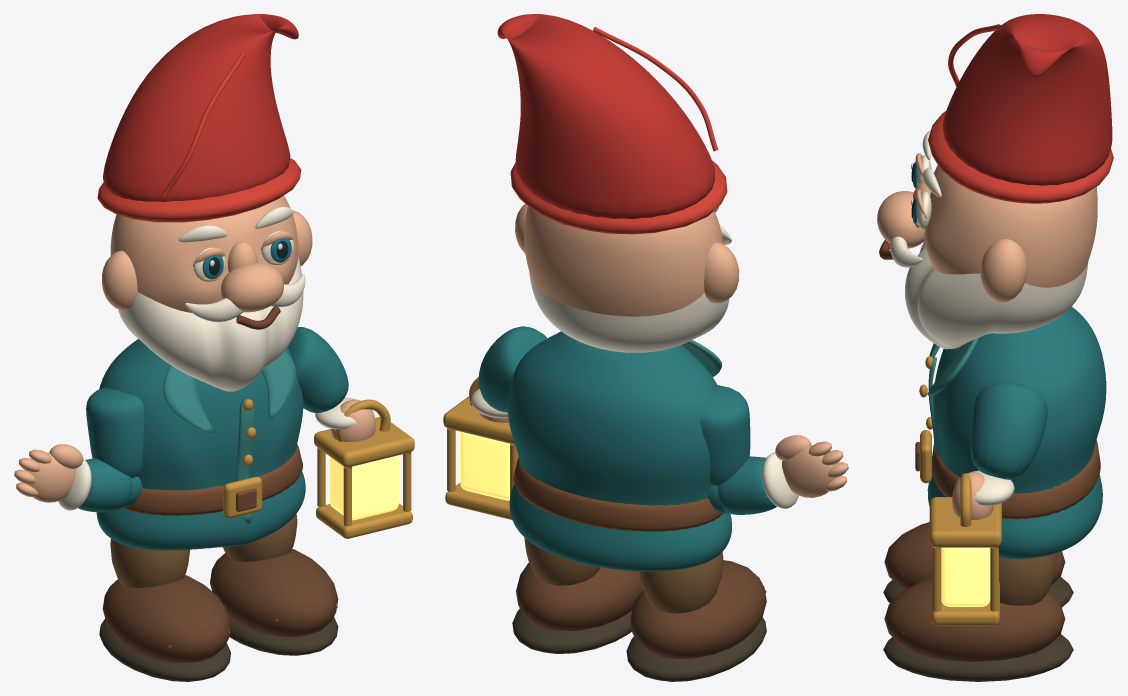
The model's file is gnome_guide.glb.
3 renders of one model, left to right at view 1: azimuth 30°, elevation 25°; view 2: azimuth 150°, elevation 25°; view 3: azimuth 270°, elevation 25°, orthographic. The views are drawn at different scales.
Visible parts, largest first — view 1: Guide_bent red cap, Guide_tailored coat continuous shell, Guide_continuous jaw wrapping beard, Guide_integrated sculpted face, Guide_rounded leather boot, Guide_rounded leather boot.001, Guide_cap thick folded rim, Guide_shaped upper sleeve, Guide_tailored lantern sleeve, Guide_wrapped leather belt, Guide_lantern warm pane, Guide_trouser cuff (+22 smaller); view 2: Guide_tailored coat continuous shell, Guide_bent red cap, Guide_integrated sculpted face, Guide_rounded leather boot, Guide_continuous jaw wrapping beard, Guide_rounded leather boot.001, Guide_wrapped leather belt, Guide_cap thick folded rim, Guide_shaped upper sleeve, Guide_planted boot sole, Guide_trouser cuff, Guide_lantern warm pane (+12 smaller); view 3: Guide_bent red cap, Guide_tailored coat continuous shell, Guide_integrated sculpted face, Guide_continuous jaw wrapping beard, Guide_rounded leather boot.001, Guide_tailored lantern sleeve, Guide_planted boot sole.001, Guide_cap thick folded rim, Guide_wrapped leather belt, Guide_lantern warm pane, Guide_lantern roof, Guide_rounded leather boot (+15 smaller).
Part boxes in pixels (x1,y1,x2,y2): Guide_bent red cap: (103, 14, 298, 201); Guide_tailored coat continuous shell: (96, 339, 305, 550); Guide_continuous jaw wrapping beard: (118, 255, 303, 391); Guide_integrated sculpted face: (110, 195, 298, 312); Guide_rounded leather boot: (102, 575, 230, 662); Guide_rounded leather boot.001: (210, 549, 338, 636); Guide_cap thick folded rim: (97, 158, 301, 222); Guide_shaped upper sleeve: (86, 387, 144, 477); Guide_tailored lantern sleeve: (288, 327, 348, 412); Guide_wrapped leather belt: (121, 444, 302, 515); Guide_lantern warm pane: (329, 455, 398, 520); Guide_trouser cuff: (110, 538, 189, 588); Guide_tailored coat continuous shell: (508, 331, 731, 571); Guide_bent red cap: (497, 14, 714, 218); Guide_integrated sculpted face: (524, 206, 723, 316); Guide_rounded leather boot: (630, 560, 766, 658); Guide_continuous jaw wrapping beard: (529, 271, 729, 352); Guide_rounded leather boot.001: (516, 562, 642, 630); Guide_wrapped leather belt: (513, 457, 723, 531); Guide_cap thick folded rim: (510, 160, 727, 234); Guide_shaped upper sleeve: (700, 385, 750, 485); Guide_planted boot sole: (626, 617, 766, 681); Guide_trouser cuff: (639, 552, 723, 613); Guide_lantern warm pane: (460, 431, 509, 500); Guide_bent red cap: (943, 14, 1112, 185); Guide_tailored coat continuous shell: (928, 306, 1106, 558); Guide_integrated sculpted face: (924, 165, 1097, 287); Guide_continuous jaw wrapping beard: (905, 241, 1088, 349); Guide_rounded leather boot.001: (884, 578, 1065, 661); Guide_tailored lantern sleeve: (970, 382, 1047, 479); Guide_planted boot sole.001: (883, 634, 1073, 681); Guide_cap thick folded rim: (928, 111, 1113, 203); Guide_wrapped leather belt: (932, 440, 1100, 519); Guide_lantern warm pane: (941, 547, 990, 606); Guide_lantern roof: (929, 497, 1001, 547); Guide_rounded leather boot: (884, 522, 1065, 590).
Size of the model in its own units: 0.7844 by 1.17 by 0.3925.
